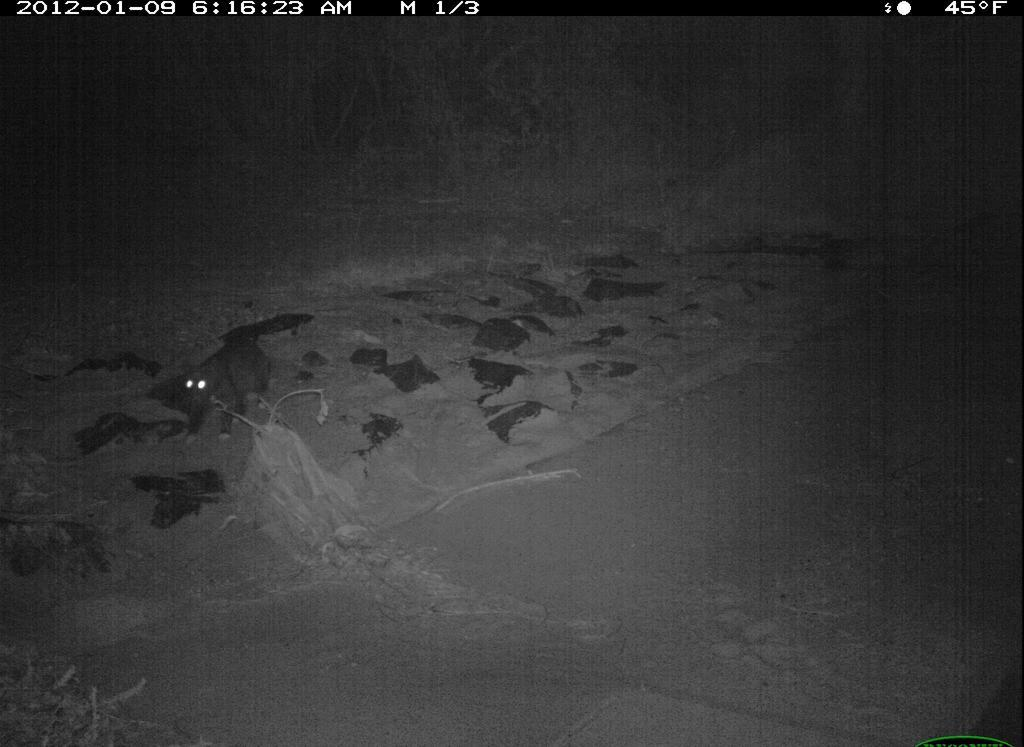cat: (175, 338, 274, 450)
